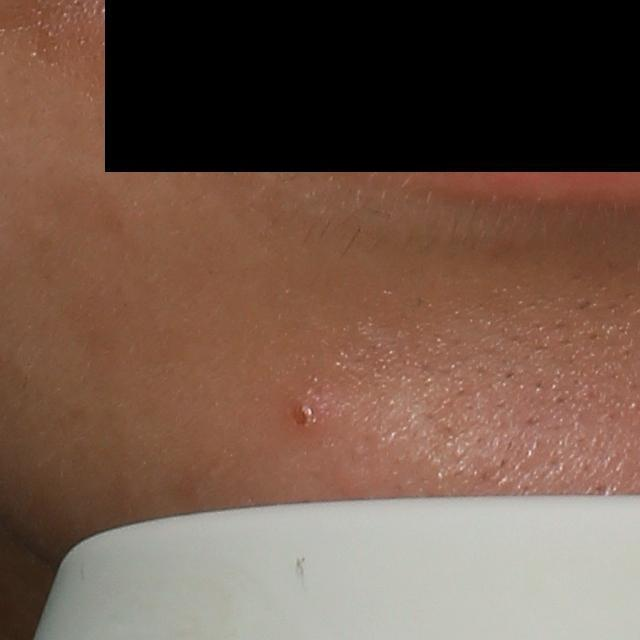papule: (283, 382, 336, 433)
